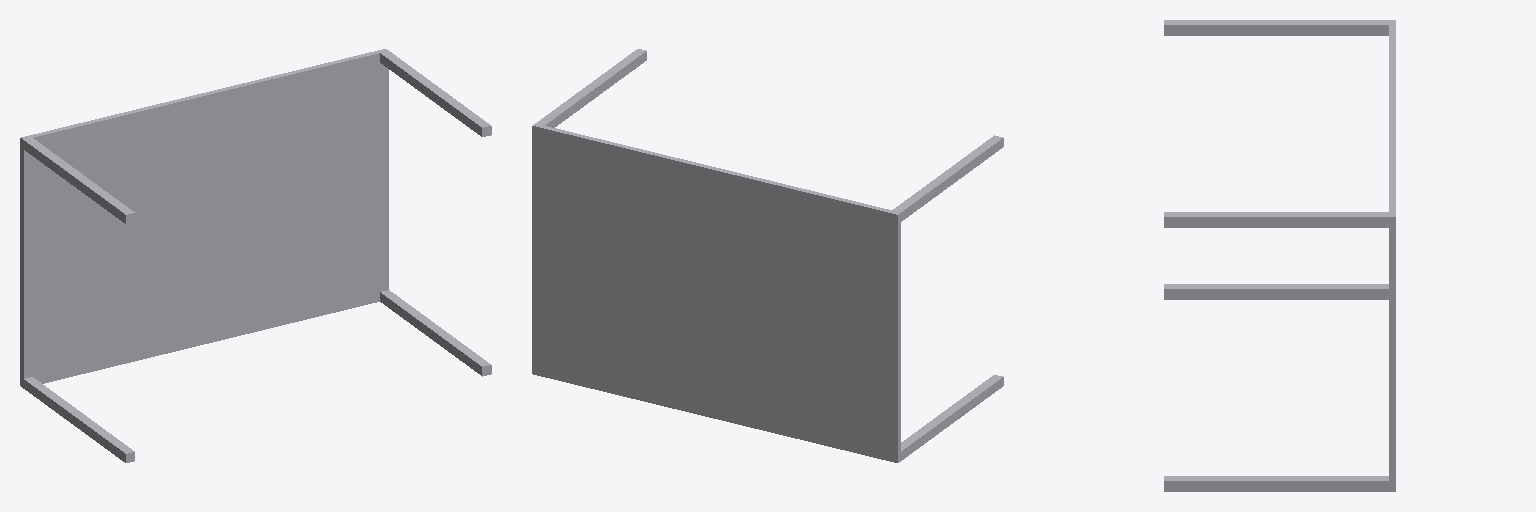
URDF robot description (rack):
<?xml version="1.0" encoding="utf-8"?>
<!-- This URDF was automatically created by SolidWorks to URDF Exporter! Originally created by Stephen Brawner (brawner@gmail.com)
     Commit Version: 1.6.0-4-g7f85cfe  Build Version: 1.6.7995.38578
     For more information, please see http://wiki.ros.org/sw_urdf_exporter -->
<robot
  name="rack">
  <link
    name="base_link">
    <inertial>
      <origin
        xyz="-0.011971 0.0044869 -0.4297"
        rpy="0 0 0" />
      <mass
        value="49.112" />
      <inertia
        ixx="9.9116"
        ixy="2.8597E-14"
        ixz="1.4316E-14"
        iyy="21.362"
        iyz="2.4766E-15"
        izz="28" />
    </inertial>
    <visual>
      <origin
        xyz="0 0 0"
        rpy="0 0 0" />
      <geometry>
        <mesh
          filename="../meshes/base_link.STL" />
      </geometry>
      <material
        name="metal_silver">
        <color
          rgba="0.75 0.76 0.78 1"/>
      </material>
    </visual>
    <collision>
      <origin
        xyz="0 0 0"
        rpy="0 0 0" />
      <geometry>
        <mesh
          filename="../meshes/base_link.STL" />
      </geometry>
    </collision>
  </link>
</robot>

--- Render facts (derived) ---
The picture shows the robot from 3 angles, left to right: view 1: azimuth 30°, elevation 25°; view 2: azimuth 150°, elevation 25°; view 3: azimuth 270°, elevation 25°; orthographic projection.
Robot: rack — 1 links, 0 joints (none); root link base_link; default pose: every joint at zero.
Links seen in each view (by area): view 1: base_link; view 2: base_link; view 3: base_link.
Link boxes in pixels (left/top/right/bottom): base_link: left=20, top=49, right=491, bottom=462; base_link: left=532, top=49, right=1003, bottom=462; base_link: left=1164, top=20, right=1395, bottom=491.
Size in the robot's own frame: 2 by 1 by 1.3 metres.
1 mesh visuals loaded from 1 distinct referenced files (1 binary STL).
